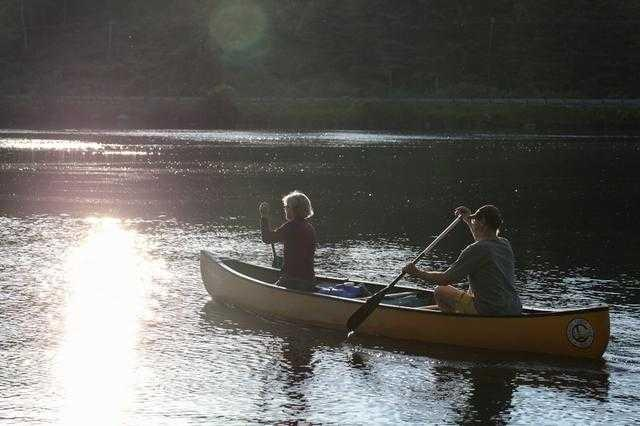kayak: (199, 252, 610, 363)
